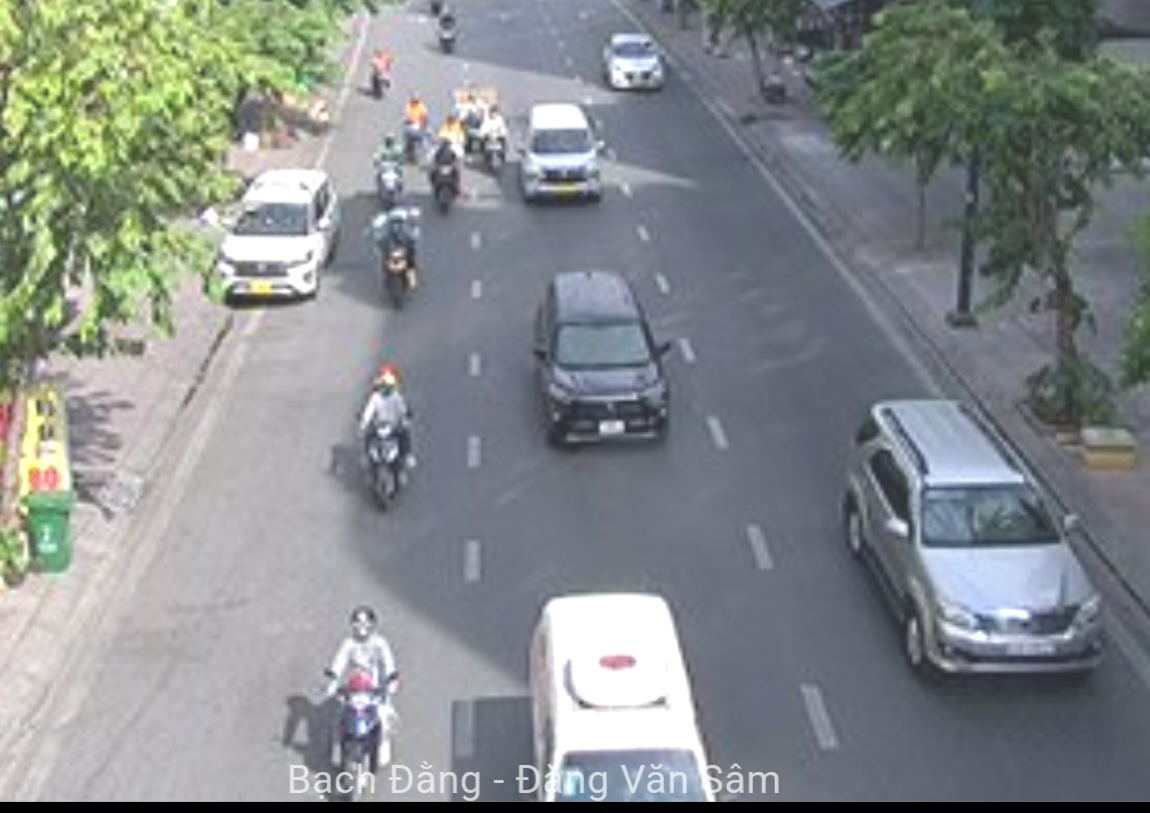car: (841, 408, 1107, 683), (527, 598, 734, 813), (526, 270, 674, 458), (212, 172, 341, 309), (516, 104, 607, 209), (598, 29, 668, 95)
